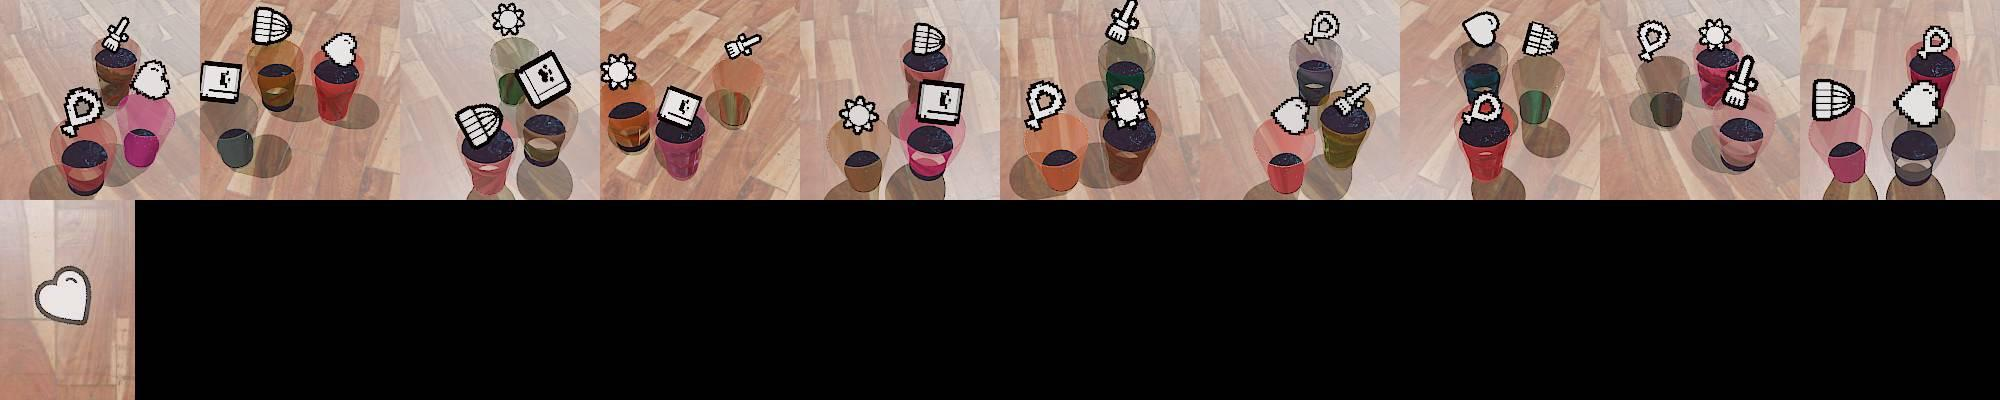icon: (33, 265, 93, 326), (514, 48, 573, 110), (657, 85, 707, 136), (1892, 79, 1943, 127), (454, 101, 505, 149), (915, 78, 964, 126), (61, 87, 106, 138), (1023, 78, 1065, 129), (1722, 54, 1759, 111), (1105, 85, 1153, 129), (199, 60, 244, 103), (1812, 78, 1855, 121), (129, 59, 173, 99), (1270, 94, 1312, 136), (251, 5, 292, 46), (838, 96, 879, 135), (1298, 9, 1341, 47), (1332, 80, 1374, 118), (1462, 88, 1505, 125), (1462, 9, 1501, 48), (601, 51, 639, 92), (1635, 19, 1672, 61), (1106, 0, 1140, 45), (1522, 19, 1560, 59), (321, 32, 358, 69), (911, 20, 946, 57), (491, 1, 527, 36), (1699, 18, 1735, 51), (723, 31, 763, 60), (1918, 25, 1953, 57), (103, 17, 130, 50)
